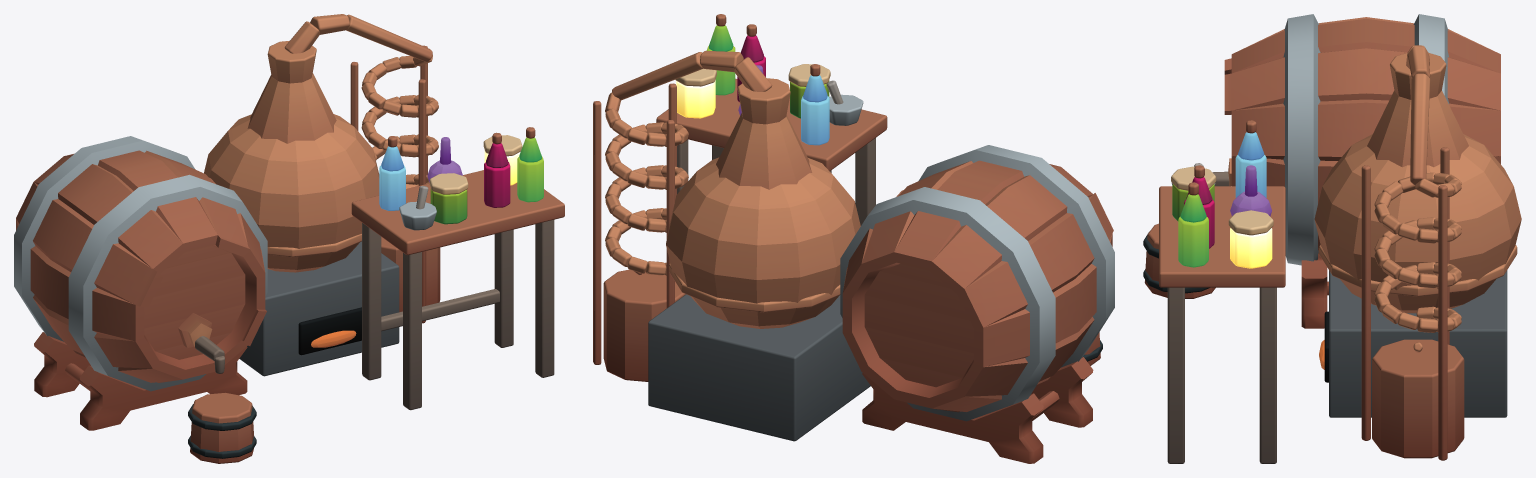
Rendered from brew_barrel.glb.
3 renders of one model, left to right at view 1: azimuth 30°, elevation 25°; view 2: azimuth 150°, elevation 25°; view 3: azimuth 270°, elevation 25°, orthographic. The views are drawn at different scales.
Visible parts, largest first — view 1: brew_barrel; view 2: brew_barrel; view 3: brew_barrel.
Part boxes in pixels (x1,y1,x2,y2): brew_barrel: (14,14,564,463); brew_barrel: (593,14,1114,463); brew_barrel: (1143,14,1521,463).
Bounding box in the file's own units: 1.94 × 1.33 × 1.31.
8 materials, 8 textured.
